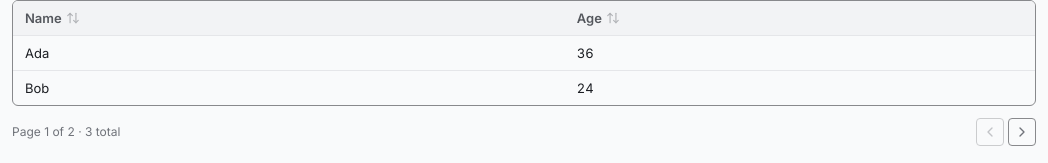
Test: DataTable — pagination › paginates and reports the correct page count
The image size is (1048, 163).
Check: the text "Page 1 of 2 · 3 total" is shown, box [12,124,120,140]
Check: the button named "previous page" is disabled, box [976,118,1004,146]
Click the button named "next page".
click(1022, 132)  # box [1008,118,1036,146]
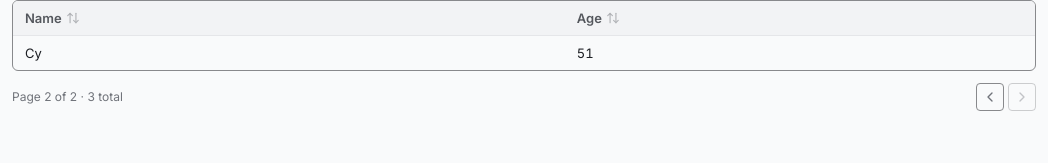
Check: the text "Page 2 of 2 · 3 total" is shown, box [12,89,123,105]
Check: the button named "next page" is disabled, box [1008,83,1036,111]
